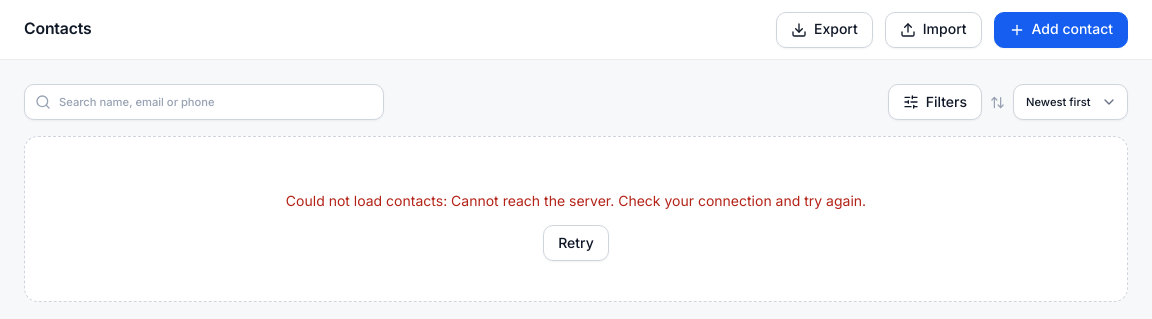
Test: ContactsView states › shows a backend failure with Retry, and recovers when the retry succeeds
The width and height of the screenshot is (1152, 319).
Expected: the message is shown, [24,136,1128,302]
Click the button "Retry" at {"x": 576, "y": 243}, box [543,225,609,261]
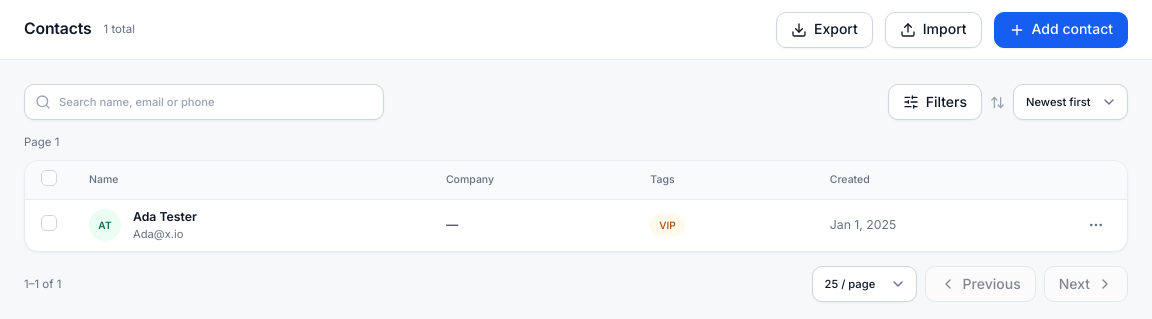
Now the text "Ada Tester" is shown, box [133,209,197,224]
